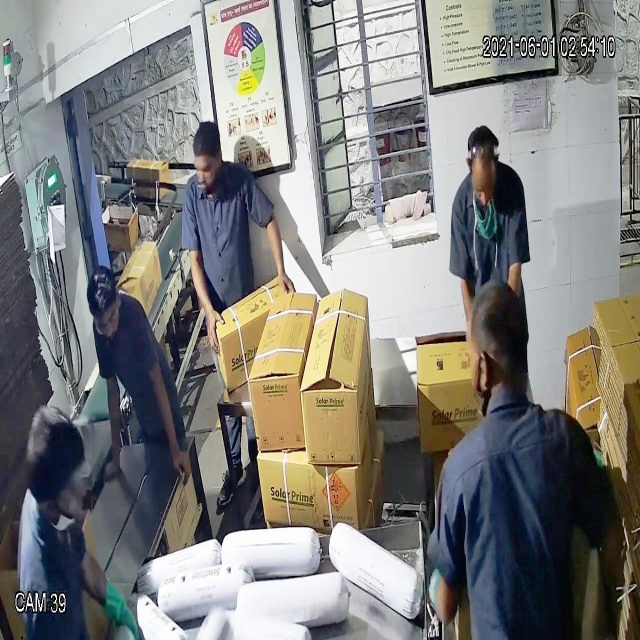Gafas: (86, 300, 123, 344)
